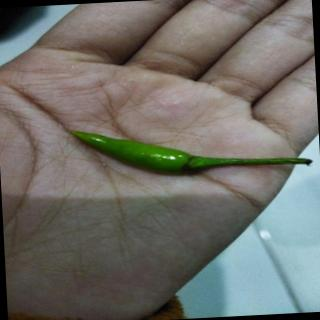Cabai Hijau: (63, 111, 319, 189)
